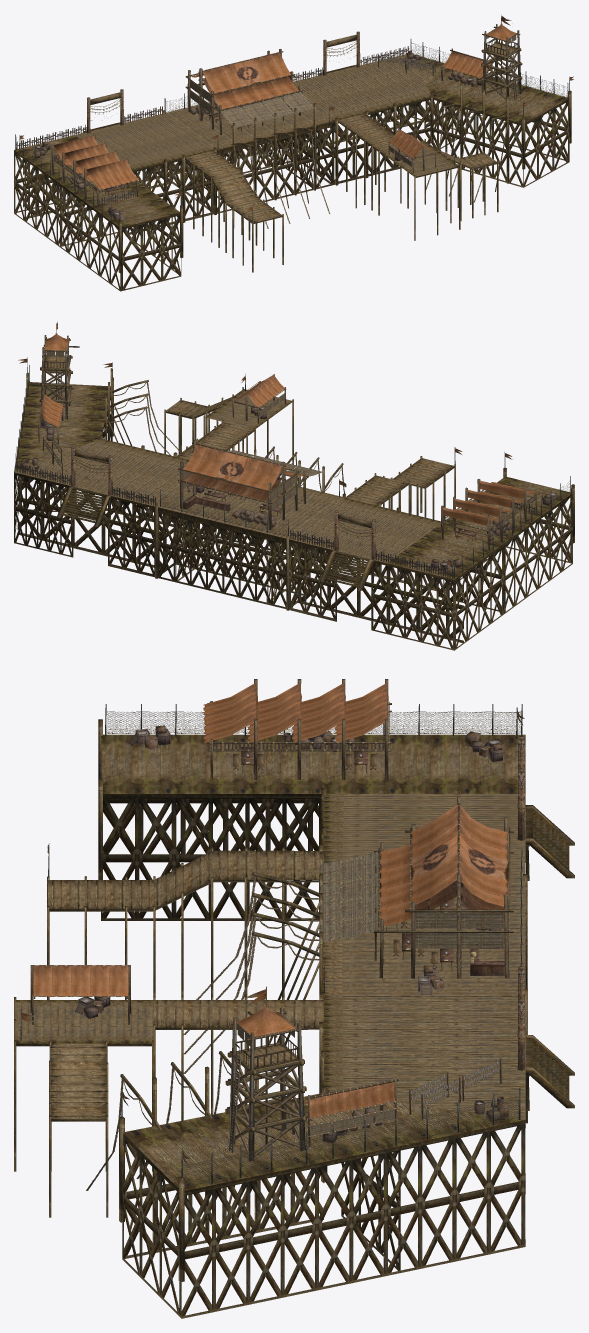
Rendered from naru_d_01.glb.
3 views of the same model, one above another, from view 1: azimuth 30°, elevation 25°; view 2: azimuth 150°, elevation 25°; view 3: azimuth 270°, elevation 25° (orthographic). The views are drawn at different scales.
Visible parts, largest first — view 1: naru_d_12, naru_d_05, naru_d_06, naru_d_09, naru_d_01, naru_d_07, naru_d_02, naru_d_03, naru_d_10, naru_d_16, naru_d_13, naru_d_11; view 2: naru_d_12, naru_d_05, naru_d_09, naru_d_06, naru_d_01, naru_d_02, naru_d_07, naru_d_03, naru_d_10, naru_d_04, naru_d_16, naru_d_13 (+1 smaller); view 3: naru_d_12, naru_d_09, naru_d_05, naru_d_06, naru_d_01, naru_d_07, naru_d_03, naru_d_02, naru_d_10, naru_d_16, naru_d_04, naru_d_11 (+2 smaller).
Part boxes in pixels (left/top/right/bottom): naru_d_12: left=14, top=99, right=569, bottom=291; naru_d_05: left=75, top=54, right=452, bottom=175; naru_d_06: left=14, top=15, right=571, bottom=272; naru_d_09: left=14, top=55, right=568, bottom=227; naru_d_01: left=54, top=24, right=515, bottom=189; naru_d_07: left=90, top=34, right=515, bottom=222; naru_d_02: left=15, top=24, right=569, bottom=221; naru_d_03: left=16, top=35, right=567, bottom=224; naru_d_10: left=33, top=50, right=481, bottom=220; naru_d_16: left=234, top=106, right=507, bottom=228; naru_d_13: left=90, top=41, right=434, bottom=114; naru_d_11: left=20, top=16, right=573, bottom=212; naru_d_12: left=14, top=398, right=572, bottom=650; naru_d_05: left=14, top=395, right=436, bottom=562; naru_d_09: left=14, top=382, right=571, bottom=579; naru_d_06: left=14, top=323, right=574, bottom=610; naru_d_01: left=39, top=333, right=537, bottom=525; naru_d_02: left=15, top=335, right=571, bottom=578; naru_d_07: left=44, top=356, right=454, bottom=528; naru_d_03: left=16, top=351, right=570, bottom=578; naru_d_10: left=21, top=406, right=556, bottom=570; naru_d_04: left=183, top=490, right=505, bottom=536; naru_d_16: left=107, top=382, right=344, bottom=493; naru_d_13: left=44, top=438, right=371, bottom=537; naru_d_12: left=101, top=798, right=525, bottom=1318; naru_d_09: left=14, top=734, right=525, bottom=1190; naru_d_05: left=14, top=794, right=525, bottom=1119; naru_d_06: left=14, top=719, right=574, bottom=1282; naru_d_01: left=33, top=682, right=508, bottom=1117; naru_d_07: left=48, top=743, right=522, bottom=1119; naru_d_03: left=106, top=711, right=522, bottom=1187; naru_d_02: left=20, top=679, right=525, bottom=1184; naru_d_10: left=74, top=725, right=508, bottom=1142; naru_d_16: left=86, top=876, right=319, bottom=1190; naru_d_04: left=241, top=747, right=504, bottom=975; naru_d_11: left=21, top=710, right=524, bottom=1165.
Size of the model in its own units: 83.36 by 25.54 by 42.5.
15 materials, 15 textured.
